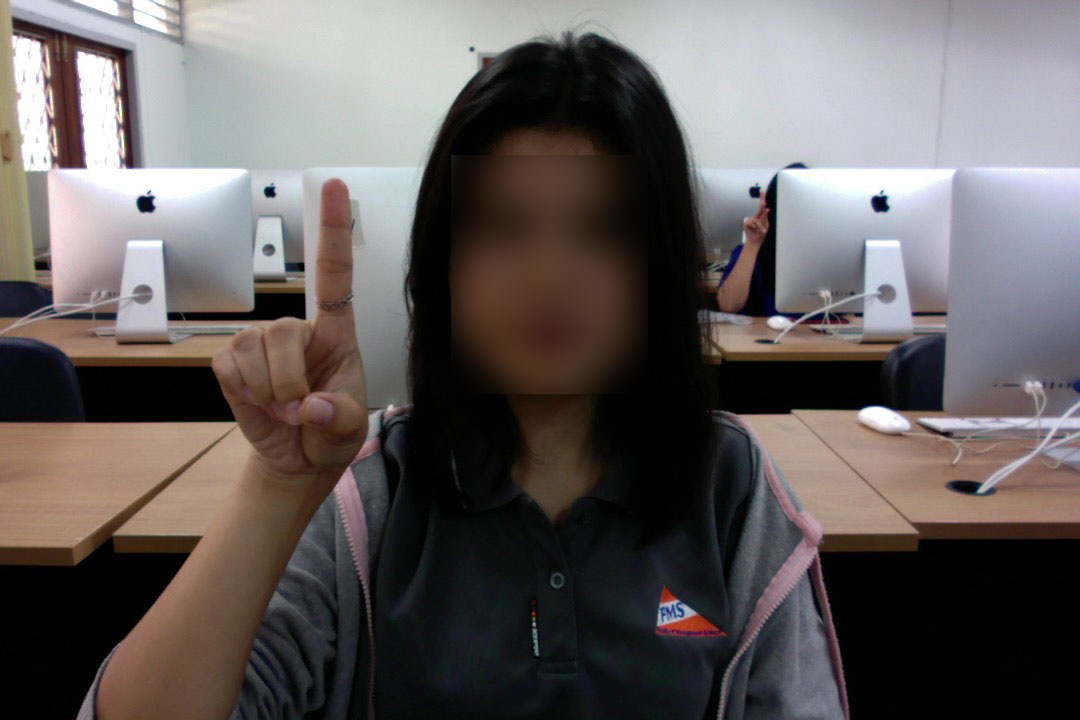dor: (210, 173, 376, 485)
